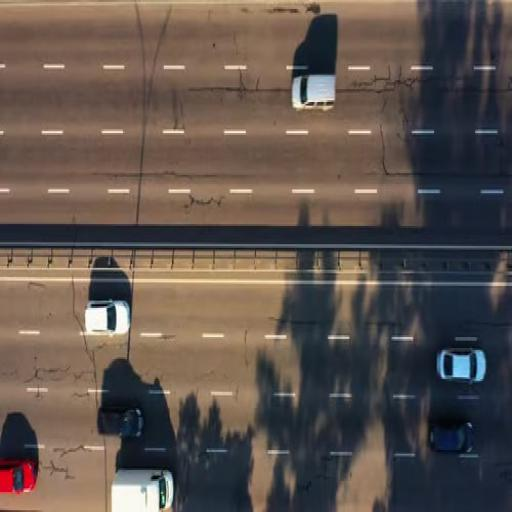Car: (107, 463, 177, 512), (82, 295, 135, 348), (424, 408, 476, 460), (434, 339, 489, 387), (93, 400, 147, 447), (289, 72, 338, 116), (0, 452, 40, 499)
